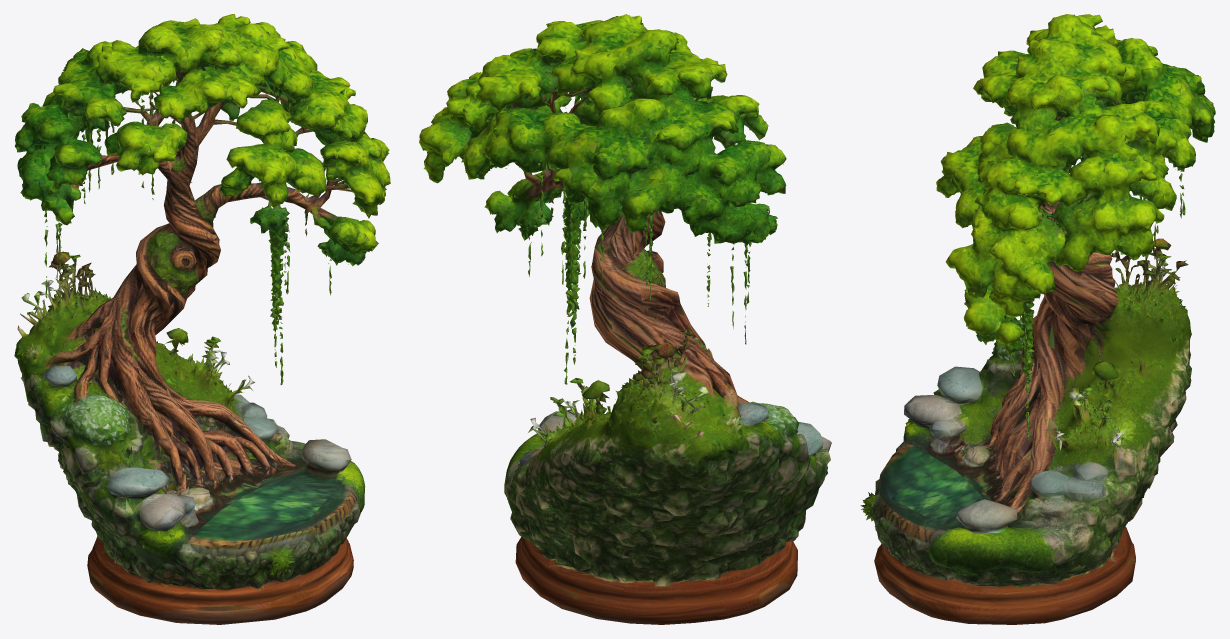
The model's file is Whispering_Willow_of.glb.
3 renders of one model, left to right at view 1: azimuth 30°, elevation 25°; view 2: azimuth 150°, elevation 25°; view 3: azimuth 270°, elevation 25°, orthographic. The views are drawn at different scales.
Visible parts, largest first — view 1: Whispering_Willow_of; view 2: Whispering_Willow_of; view 3: Whispering_Willow_of.
Boxes of the visible parts, bbox=[...] form: Whispering_Willow_of: bbox=[14, 14, 390, 624]; Whispering_Willow_of: bbox=[419, 14, 831, 624]; Whispering_Willow_of: bbox=[860, 14, 1215, 624].
Bounding box in the file's own units: 1.25 × 1.89 × 1.13.
Materials: 1 (1 with a texture image).
